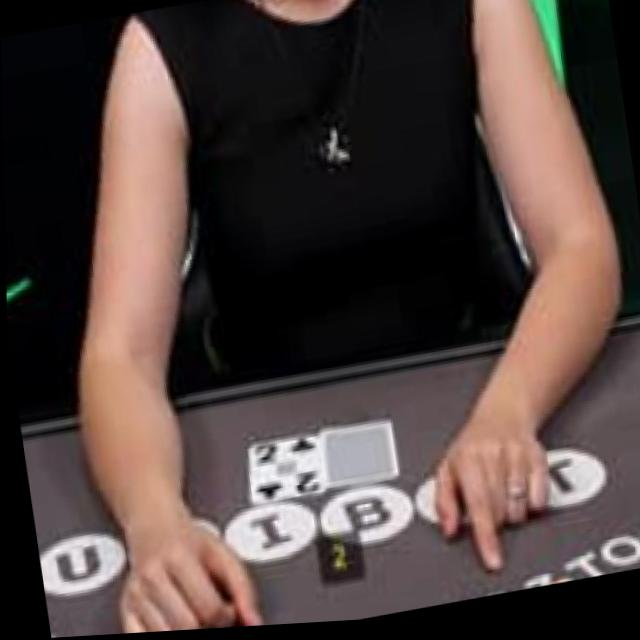Card-2: (247, 436, 323, 506)
